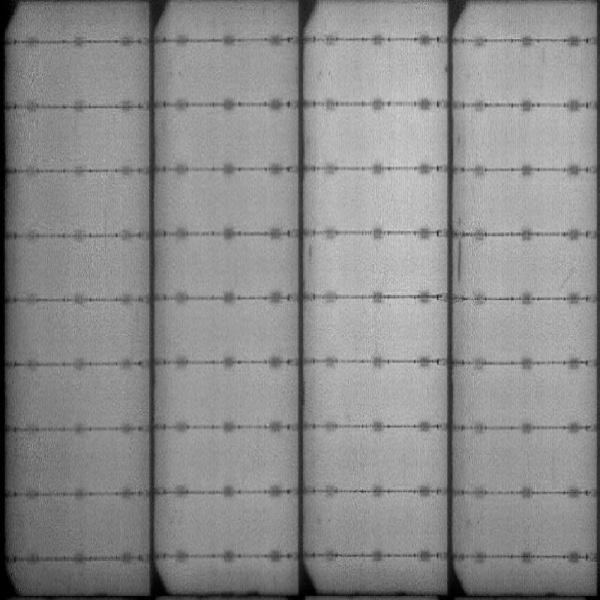scratch: (456, 240, 462, 282)
